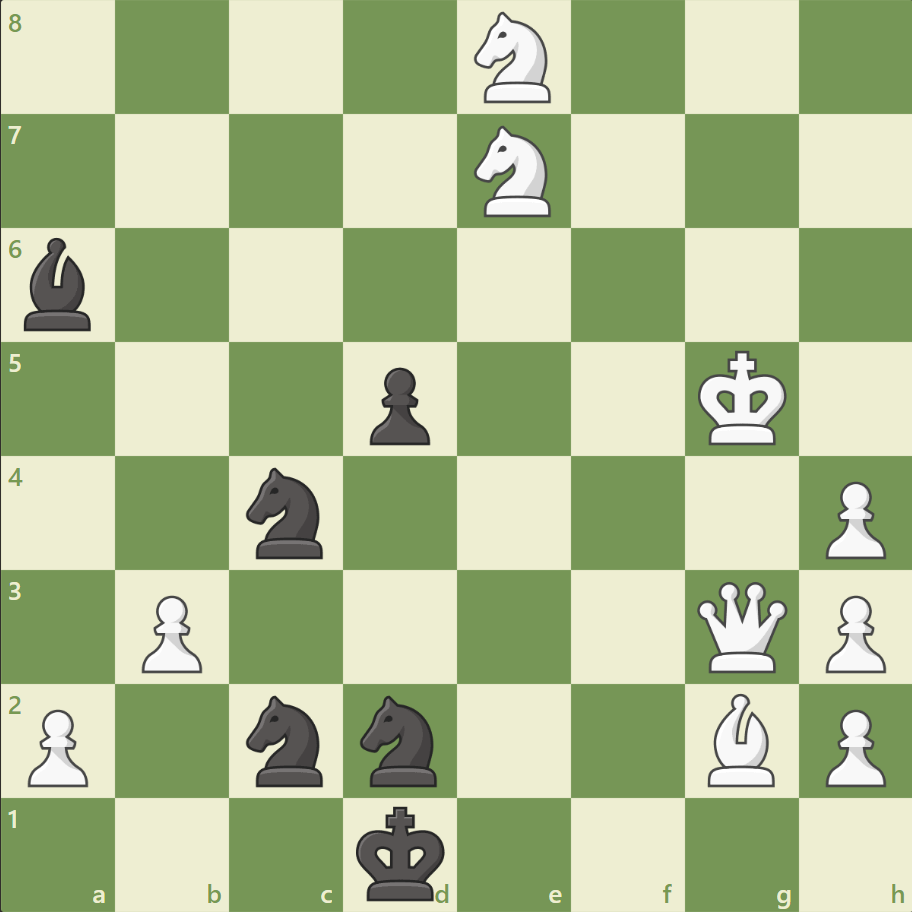B: (698, 687, 782, 790)
K: (692, 344, 792, 452)
N: (465, 7, 562, 110), (465, 121, 562, 223)
P: (133, 586, 208, 677), (20, 700, 95, 791), (815, 473, 889, 564), (815, 586, 889, 677), (815, 700, 889, 791)
Q: (691, 576, 790, 676)
b: (17, 233, 101, 336)
k: (351, 798, 451, 906)
n: (351, 688, 449, 791), (238, 461, 335, 564), (238, 688, 335, 791)
p: (361, 359, 435, 450)
